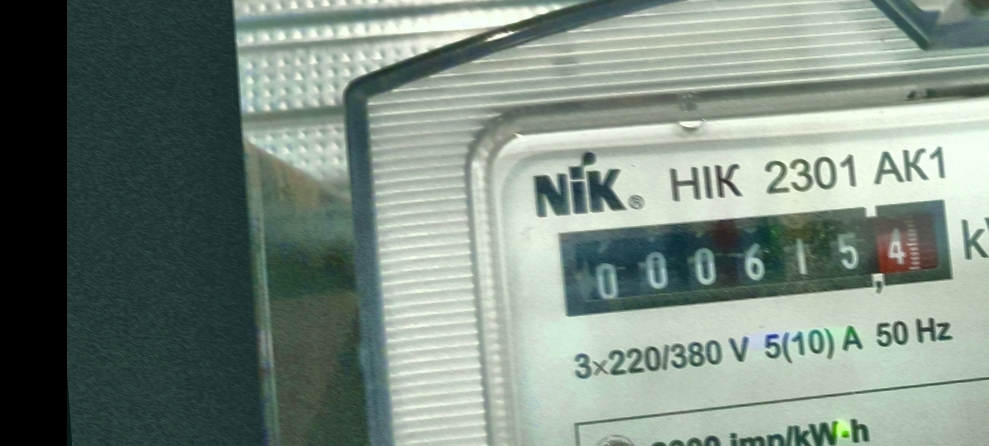0: (692, 242, 720, 286), (594, 257, 622, 299), (645, 247, 671, 288)
1: (795, 233, 811, 275)
4: (886, 223, 908, 264)
5: (837, 227, 862, 270)
6: (742, 238, 768, 280)
screen: (546, 185, 967, 327)
